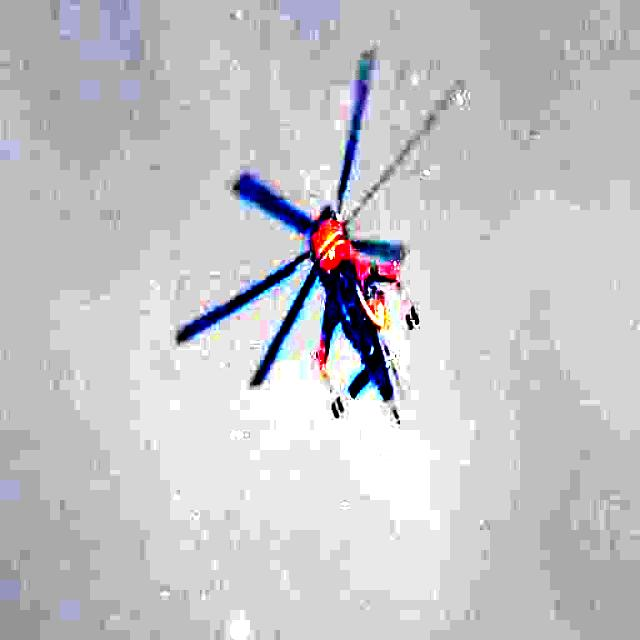drone: (172, 50, 448, 428)
